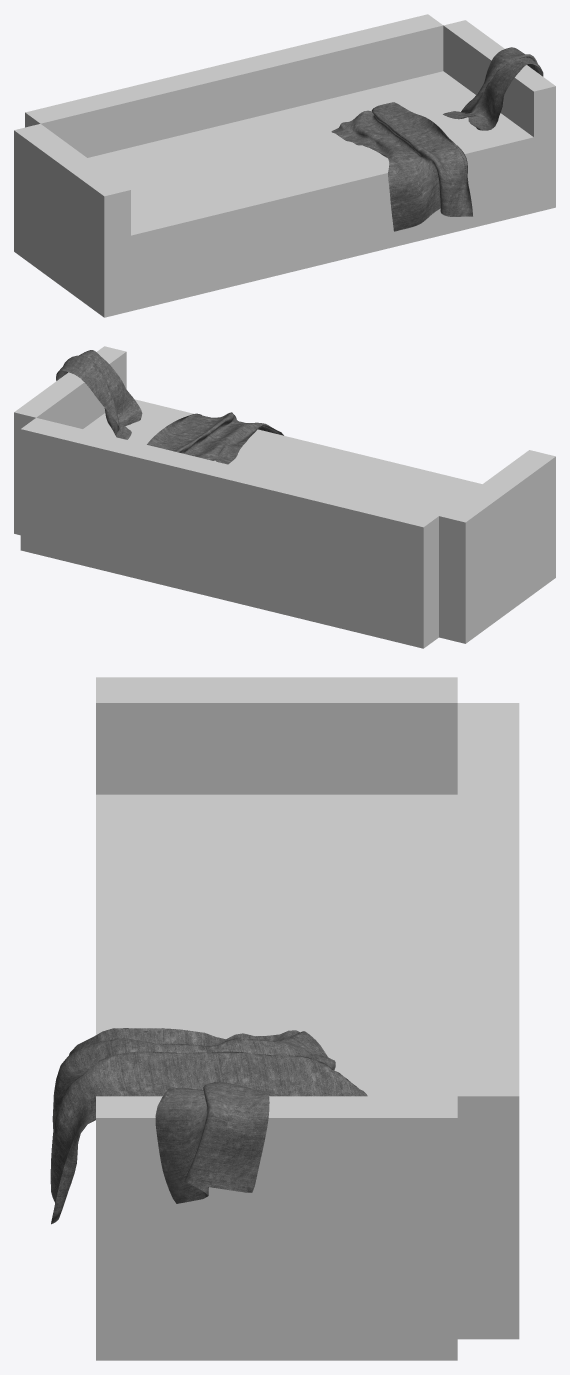
Rendered from shapespark_blankets-set.fbx.
3 renders of one model, top to bottom at view 1: azimuth 30°, elevation 25°; view 2: azimuth 150°, elevation 25°; view 3: azimuth 270°, elevation 25°, orthographic. The views are drawn at different scales.
Visible parts, largest first — view 1: Cube.001, blanket_01, blanket_02; view 2: Cube.001, blanket_01, blanket_02; view 3: Cube.001, blanket_01, blanket_02.
Boxes of the visible parts, bbox=[...] form: Cube.001: bbox=[14, 14, 555, 317]; blanket_01: bbox=[331, 102, 472, 231]; blanket_02: bbox=[443, 47, 543, 130]; Cube.001: bbox=[14, 346, 555, 648]; blanket_01: bbox=[147, 412, 283, 464]; blanket_02: bbox=[56, 350, 142, 439]; Cube.001: bbox=[96, 677, 519, 1360]; blanket_01: bbox=[50, 1028, 367, 1224]; blanket_02: bbox=[155, 1081, 269, 1203].
Size of what is drawn, in the model's own units: 297 by 130 by 81.27.
1 material, 1 textured.
